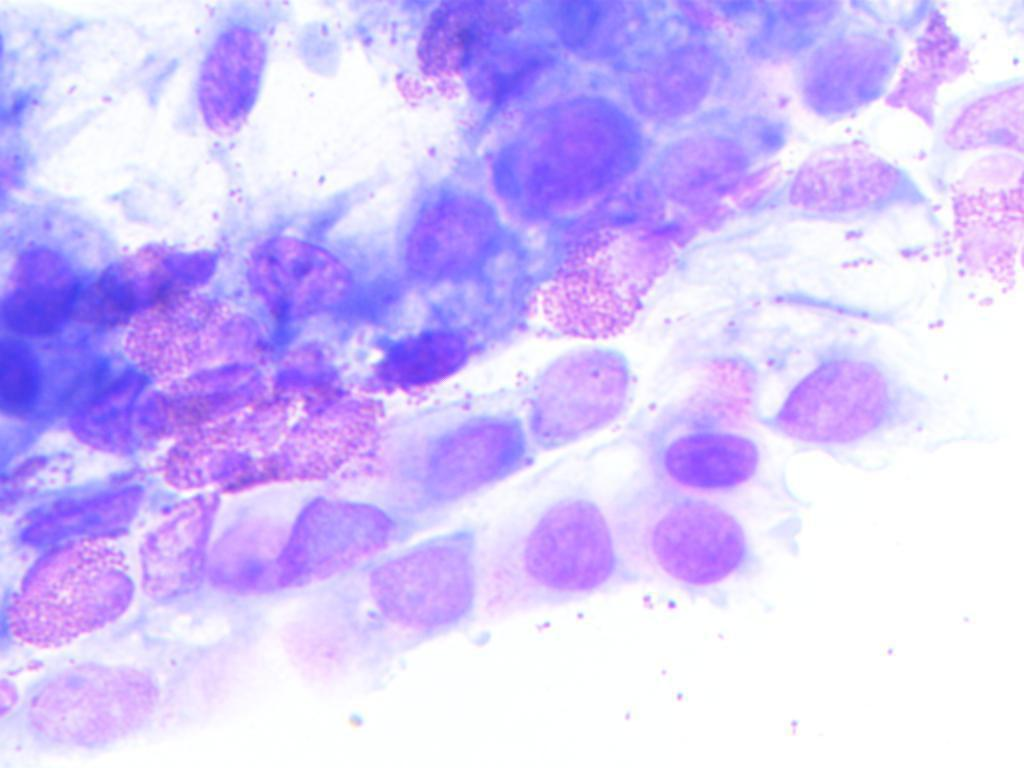eosinophil: (153, 396, 386, 510), (522, 215, 680, 342), (768, 134, 923, 240), (376, 0, 528, 107), (2, 534, 137, 652), (120, 298, 272, 379), (949, 153, 1024, 305), (890, 14, 985, 123)
epithelial: (469, 86, 655, 230), (164, 10, 303, 146), (379, 169, 507, 300), (21, 649, 184, 750), (632, 485, 780, 595), (487, 487, 635, 597), (598, 26, 745, 128), (53, 369, 186, 479), (788, 13, 919, 121), (79, 228, 223, 326), (239, 222, 359, 318), (640, 413, 763, 495), (364, 541, 478, 629)
goblet_cell: (204, 494, 385, 592), (385, 397, 530, 512), (770, 350, 906, 454), (526, 341, 635, 437)
lymphocyte: (352, 309, 481, 391)
metaplastic: (3, 235, 81, 338)
